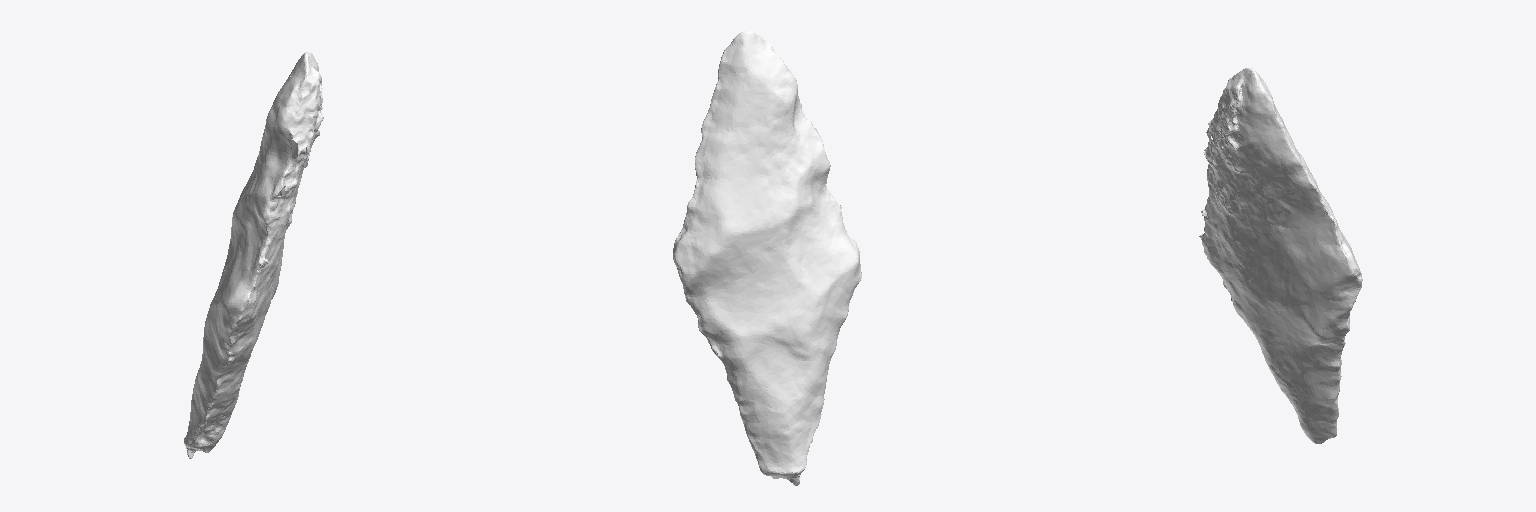
File: pc500real.obj
3 views of the same model, side by side, from view 1: azimuth 30°, elevation 25°; view 2: azimuth 150°, elevation 25°; view 3: azimuth 270°, elevation 25° (orthographic).
Parts seen in each view (by area): view 1: pc500; view 2: pc500; view 3: pc500.
Part boxes in pixels (x1,y1,x2,y2): pc500: (184, 52, 323, 458); pc500: (673, 31, 861, 485); pc500: (1199, 68, 1362, 443).
Bounding box in the file's own units: 0.2536 × 0.83 × 0.3025.